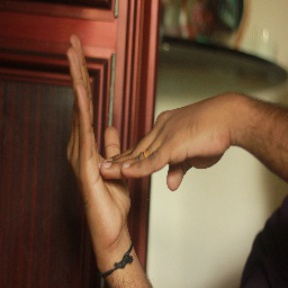Z: (58, 32, 236, 231)
